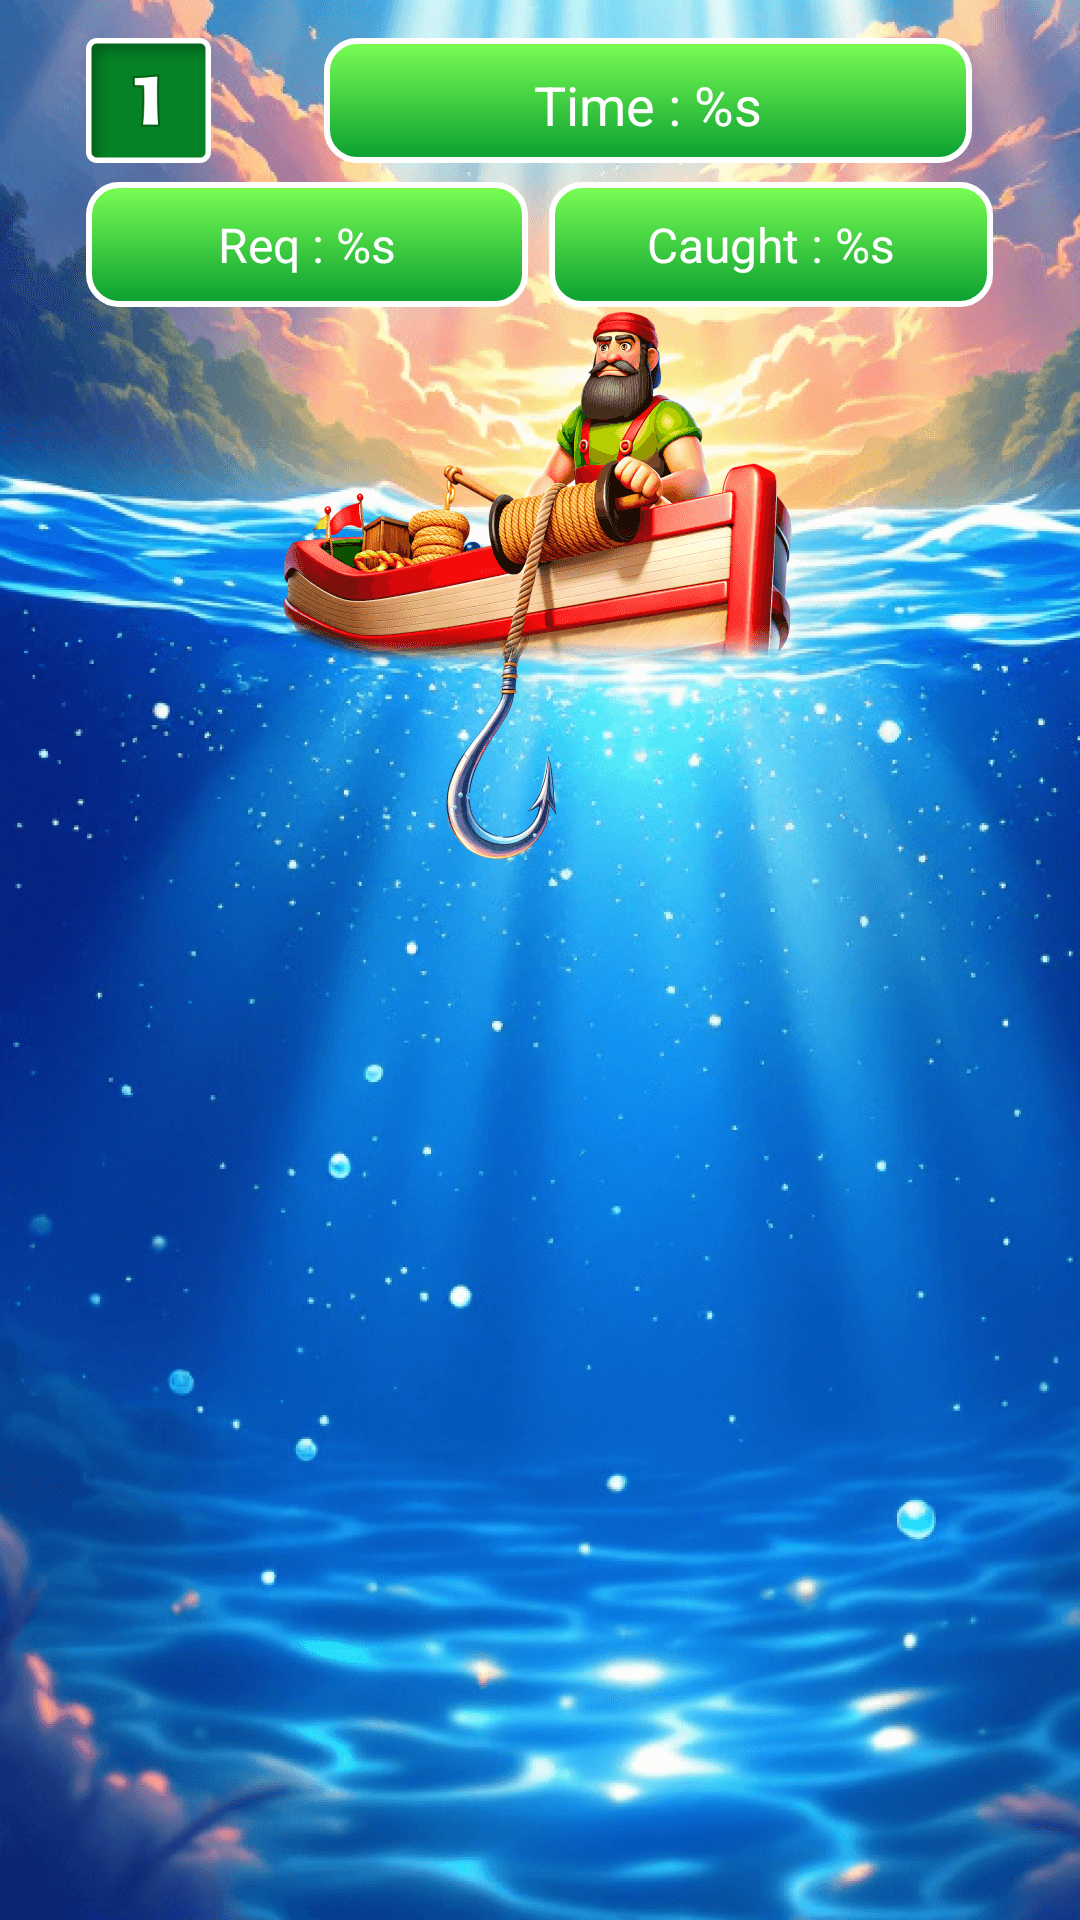

Screen size 1080*1920. Icon name, then its center in pixels as (x=x, y=y):
level: (x=148, y=100)
